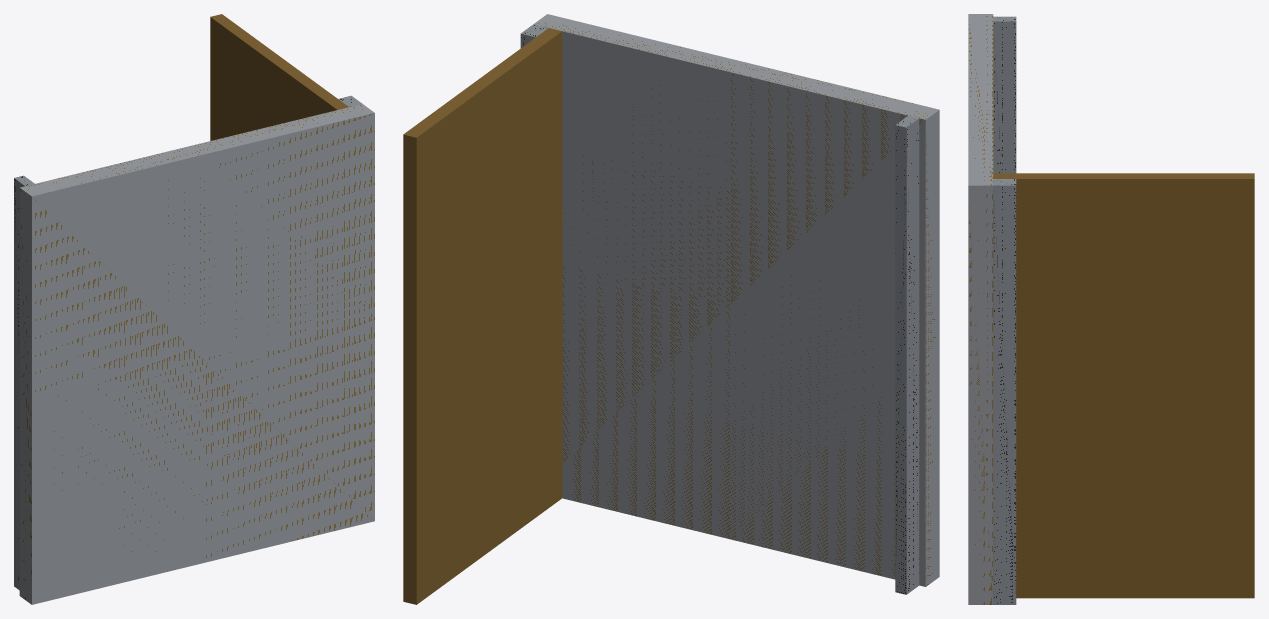
Rendered from mid-W.obj.
3 renders of one model, left to right at view 1: azimuth 30°, elevation 25°; view 2: azimuth 150°, elevation 25°; view 3: azimuth 270°, elevation 25°, orthographic. The views are drawn at different scales.
Size of the model in its own units: 0.8788 by 1 by 0.6191.
